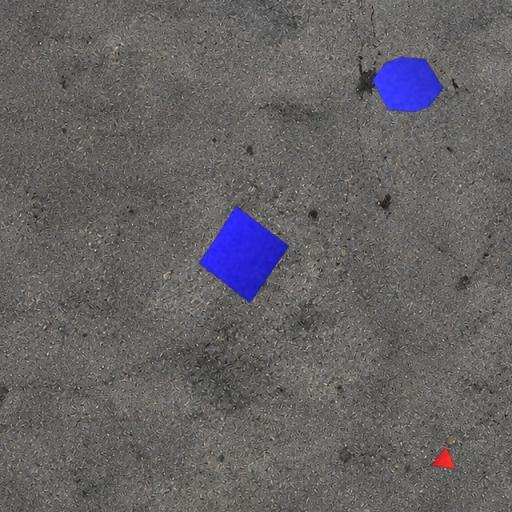BLUE_SQUARE: (198, 206, 290, 303)
